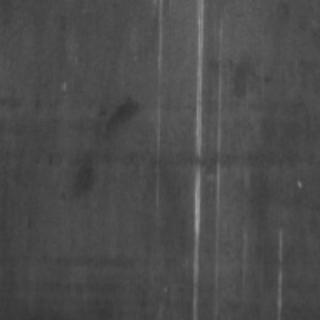scratches: (182, 0, 208, 312)
